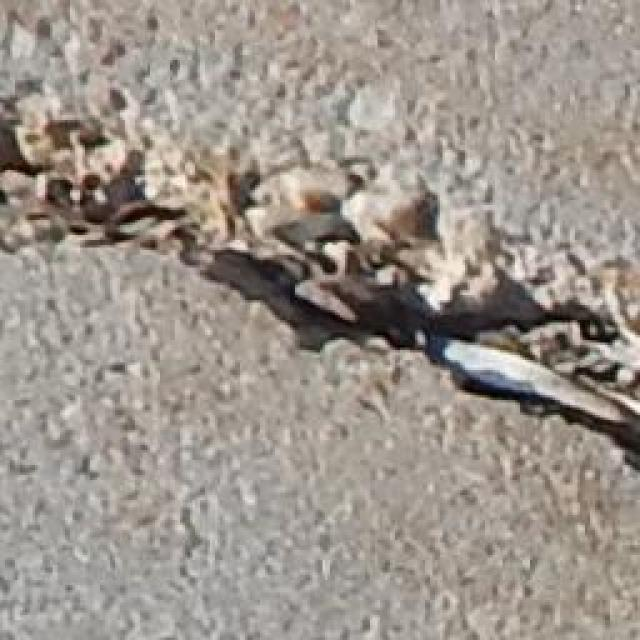concrete-crack: (0, 100, 640, 492)
